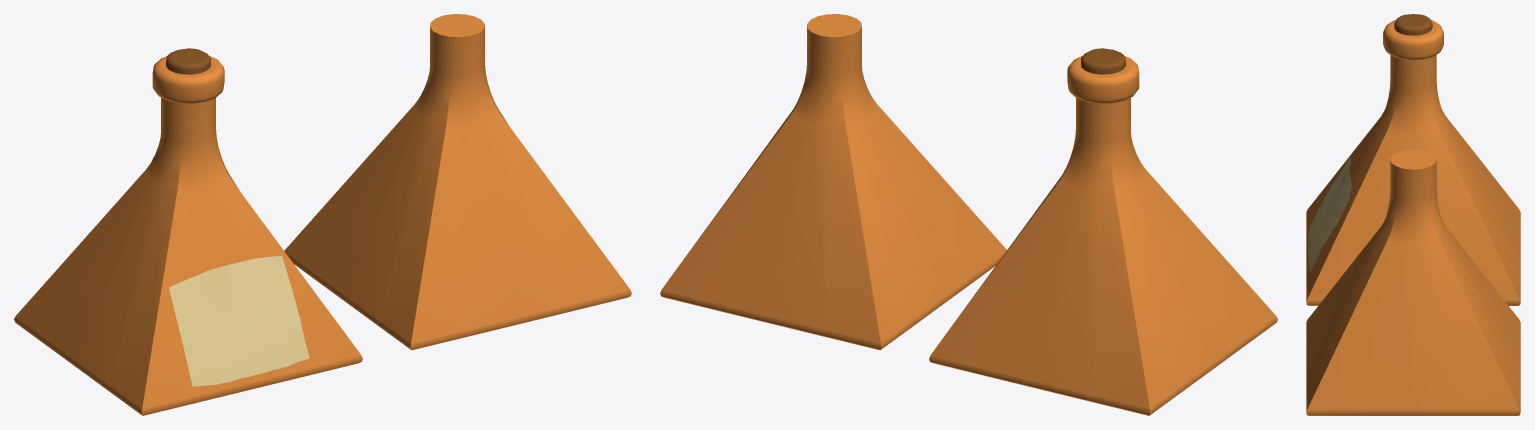
File: Potion_MK3.fbx
3 views of the same model, side by side, from view 1: azimuth 30°, elevation 25°; view 2: azimuth 150°, elevation 25°; view 3: azimuth 270°, elevation 25° (orthographic). The views are drawn at different scales.
Parts seen in each view (by area): view 1: Cubo.002, Cubo, Plane.001, Cubo.001; view 2: Cubo, Cubo.002, Cubo.001; view 3: Cubo.002, Cubo, Plane.001, Cubo.001.
Part boxes in pixels (x1,y1,x2,y2): Cubo.002: [284, 14, 631, 350]; Cubo: [14, 55, 362, 415]; Plane.001: [169, 256, 309, 386]; Cubo.001: [166, 48, 210, 74]; Cubo: [929, 55, 1277, 415]; Cubo.002: [660, 14, 1006, 350]; Cubo.001: [1081, 48, 1125, 74]; Cubo.002: [1306, 150, 1520, 415]; Cubo: [1306, 20, 1520, 305]; Plane.001: [1308, 156, 1351, 271]; Cubo.001: [1394, 14, 1432, 35].
Bounding box in the file's own units: 429 × 241 × 194.
